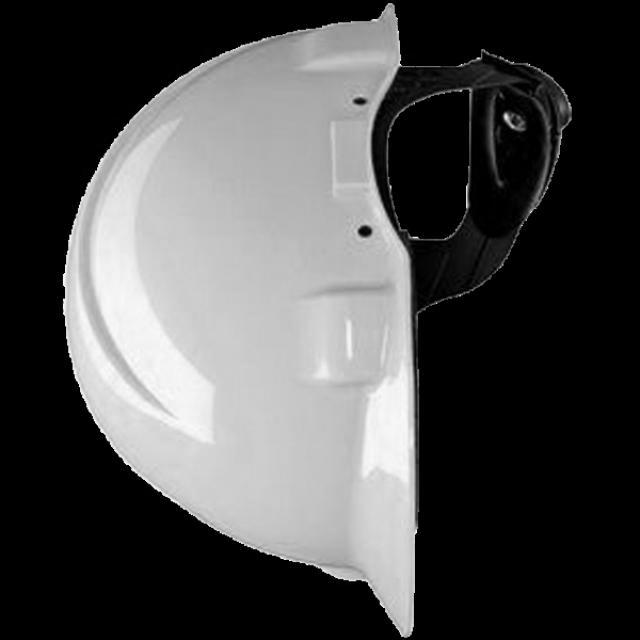construction helmet: (64, 3, 579, 637)
